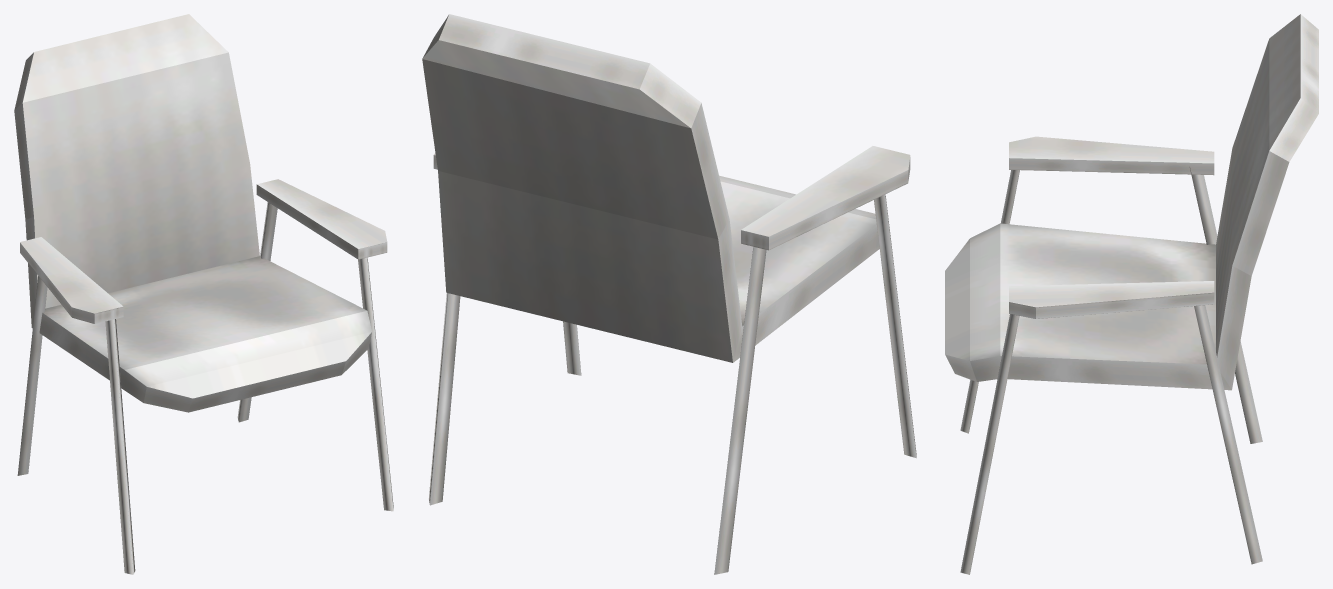
Rendered from patio_chair_default.fbx.
The picture shows the model from 3 angles, left to right: view 1: azimuth 30°, elevation 25°; view 2: azimuth 150°, elevation 25°; view 3: azimuth 270°, elevation 25°; orthographic projection. The views are drawn at different scales.
Visible parts, largest first — view 1: mesh_0; view 2: mesh_0; view 3: mesh_0.
Boxes of the visible parts, x1=… form: mesh_0: x1=14, y1=14, x2=393, y2=574; mesh_0: x1=422, y1=14, x2=916, y2=574; mesh_0: x1=945, y1=14, x2=1318, y2=574.
Bounding box in the file's own units: 81.76 × 99.49 × 75.62.
1 material, 1 textured.
